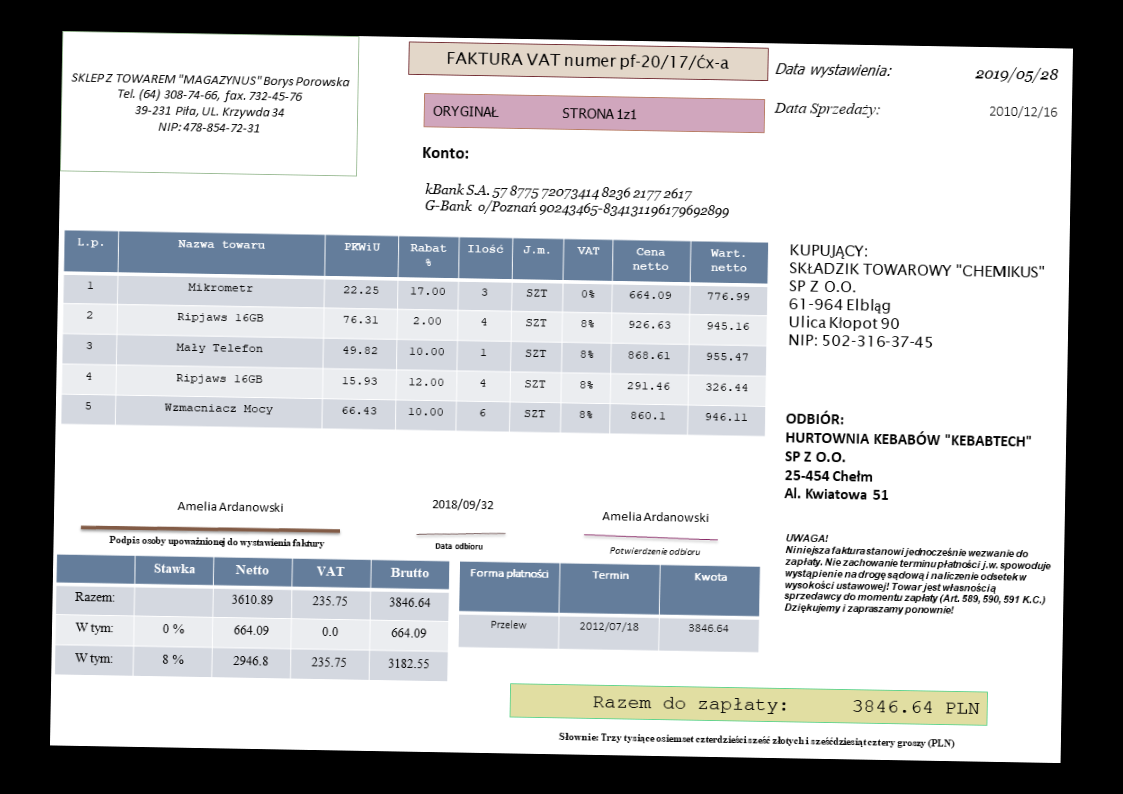Table: (58, 228, 770, 437), (53, 552, 449, 682), (457, 560, 761, 653)
TextBox: (784, 240, 1048, 353), (782, 408, 1035, 506), (781, 530, 1054, 618), (69, 69, 352, 137), (422, 180, 733, 221), (591, 693, 981, 719), (557, 729, 956, 750), (444, 48, 732, 73), (432, 102, 639, 123), (107, 532, 325, 550), (774, 58, 893, 81), (772, 99, 882, 119), (176, 498, 285, 515), (972, 64, 1060, 85), (600, 509, 710, 524), (607, 544, 702, 558), (987, 103, 1059, 119), (430, 496, 494, 513), (420, 143, 469, 162), (432, 540, 483, 552)
